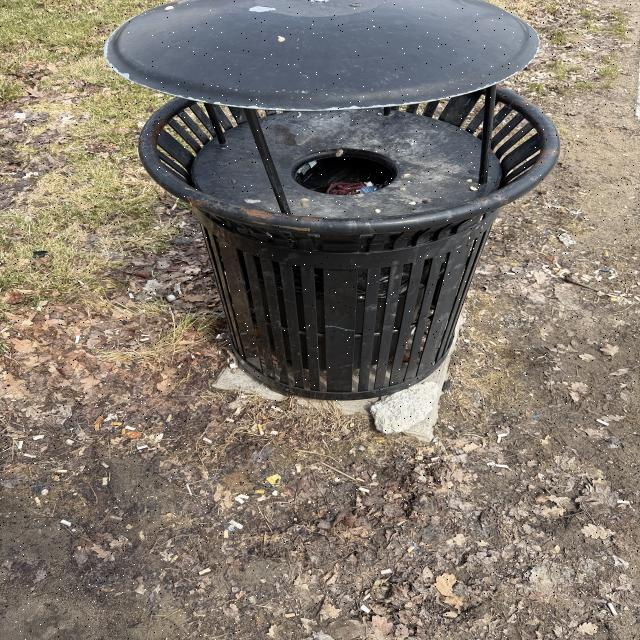Dustbin: (100, 0, 562, 398)
